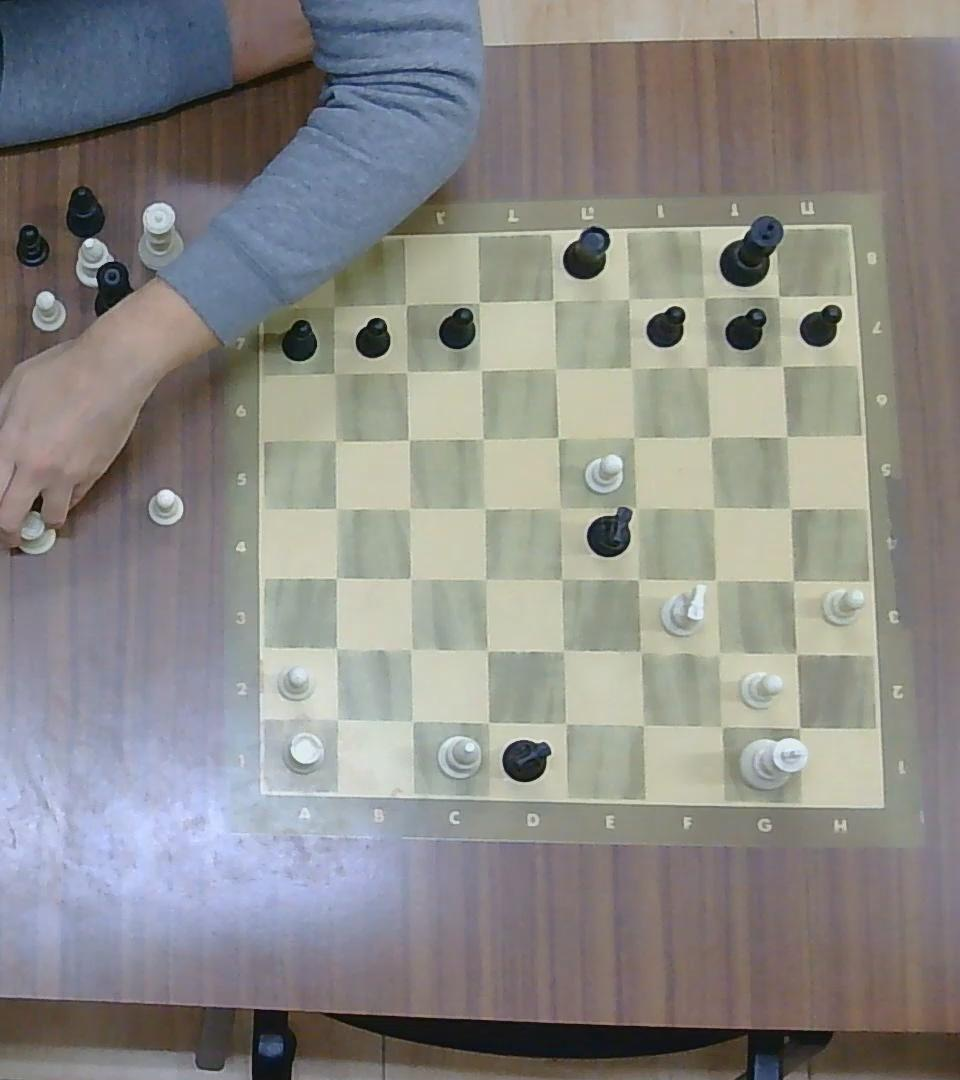xcorner: (703, 708, 737, 742), (701, 636, 735, 669), (781, 710, 815, 743), (626, 707, 657, 739), (320, 702, 351, 734), (471, 706, 502, 737), (781, 637, 812, 668), (548, 707, 580, 737), (625, 636, 656, 666), (622, 563, 652, 594), (548, 634, 578, 665), (396, 705, 427, 735), (471, 634, 501, 664), (700, 565, 730, 595), (548, 563, 577, 594), (545, 492, 574, 523), (470, 564, 500, 593), (698, 493, 728, 522), (319, 290, 348, 320), (776, 493, 806, 522), (395, 635, 424, 664), (321, 562, 350, 591), (321, 633, 350, 662), (543, 422, 572, 451), (622, 493, 651, 522), (319, 358, 348, 387), (777, 566, 807, 594), (471, 493, 499, 522), (395, 493, 423, 522), (393, 424, 421, 453), (616, 352, 645, 380), (395, 564, 423, 592), (467, 424, 495, 452), (322, 494, 350, 521), (620, 423, 648, 450), (542, 354, 569, 381), (698, 422, 725, 448), (693, 353, 720, 378), (393, 358, 419, 383), (322, 426, 348, 451), (467, 356, 492, 382), (392, 291, 418, 316), (540, 286, 566, 311), (616, 286, 641, 311), (773, 423, 798, 447), (691, 285, 716, 308), (466, 290, 491, 313), (767, 285, 791, 308), (770, 354, 793, 377)
